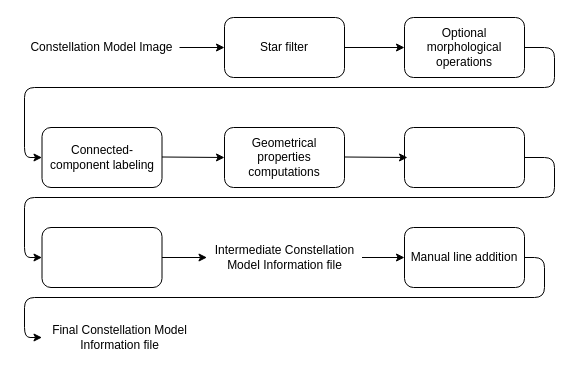
This 580x375 diagram has some shape labels left out. Here are the shapes that lost their labels. From the top down, the box of each, then its label:
(404, 126, 524, 188): Generation of triangles
(41, 226, 162, 288): Information processing and storing
